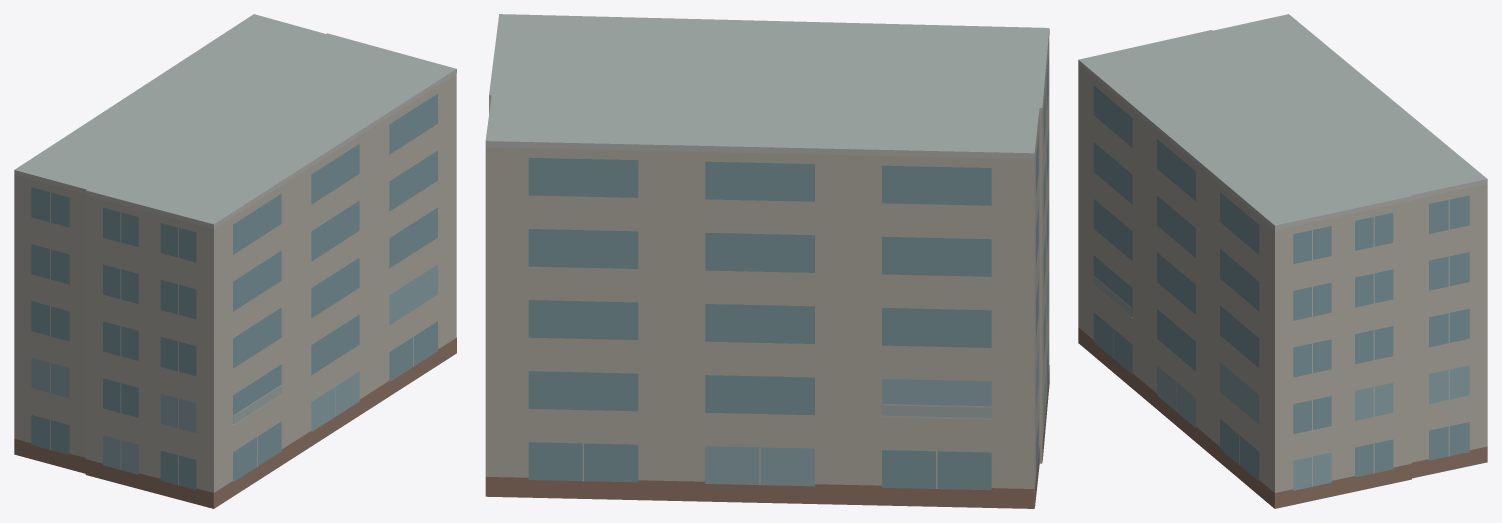
Rendered from survey-upis-32740894.glb.
3 renders of one model, left to right at view 1: azimuth 30°, elevation 25°; view 2: azimuth 150°, elevation 25°; view 3: azimuth 270°, elevation 25°, orthographic. The views are drawn at different scales.
Visible parts, largest first — view 1: survey-upis-32740894.tmp; view 2: survey-upis-32740894.tmp; view 3: survey-upis-32740894.tmp.
Boxes of the visible parts, x1,y1,x2,y2 form: survey-upis-32740894.tmp: [14, 14, 456, 508]; survey-upis-32740894.tmp: [485, 14, 1049, 508]; survey-upis-32740894.tmp: [1078, 14, 1487, 508].
Size of the model in its own units: 23.15 by 14.45 by 18.93.
